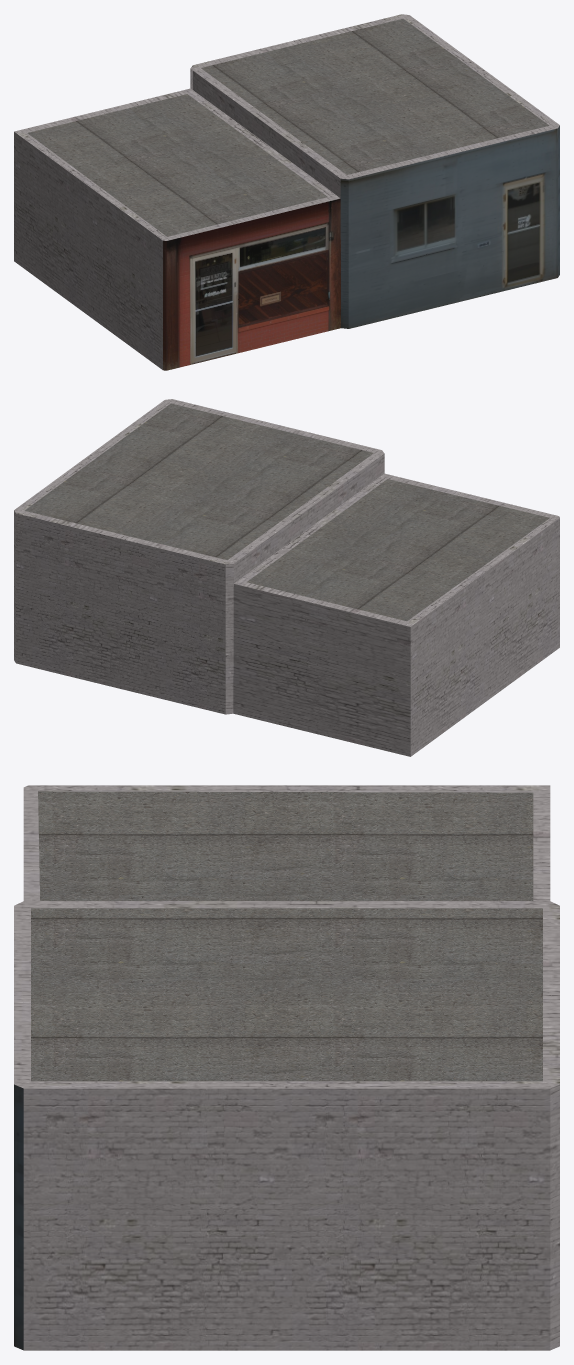
The model's file is Building_07.dae.
3 renders of one model, top to bottom at view 1: azimuth 30°, elevation 25°; view 2: azimuth 150°, elevation 25°; view 3: azimuth 270°, elevation 25°, orthographic. The views are drawn at different scales.
Visible parts, largest first — view 1: Building_07; view 2: Building_07; view 3: Building_07.
Boxes of the visible parts, x1,y1,x2,y2 form: Building_07: (14,14,559,370); Building_07: (14,399,559,756); Building_07: (14,785,559,1350).
Bounding box in the file's own units: 9 × 6.14 × 3.25.
4 materials, 4 textured.
